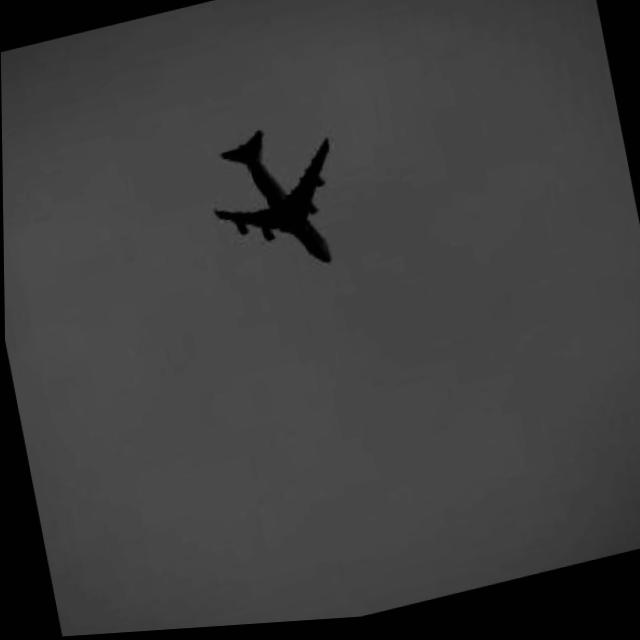aeroplane: (193, 115, 362, 310)
